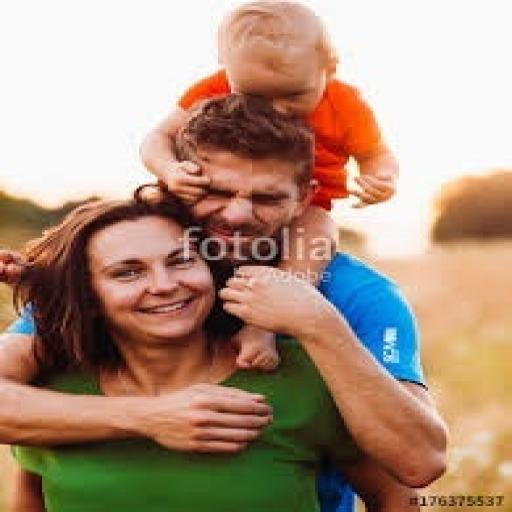hugging: (0, 91, 449, 510), (134, 0, 402, 216)
